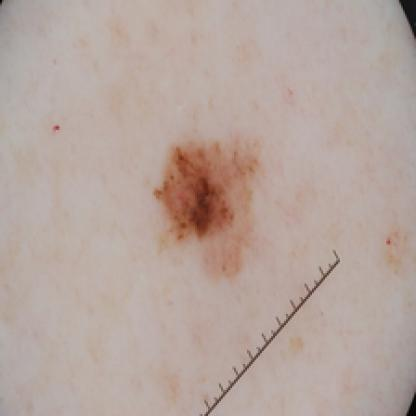malignant: (152, 132, 260, 251)
